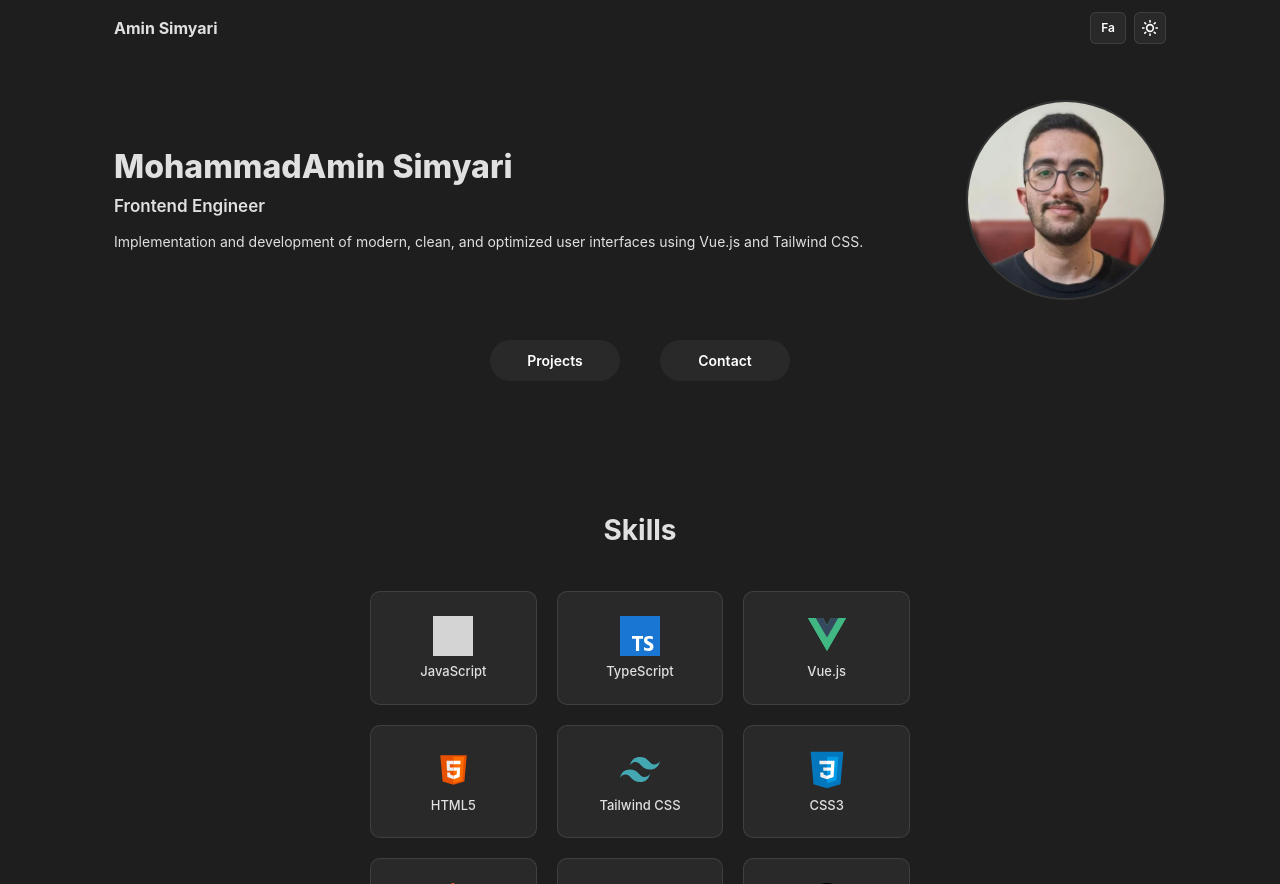
App › Language switching › can switch back to fa after going to en
The width and height of the screenshot is (1280, 884).
Step 1. Click the button with class "lang-toggle" → (1108, 28), box x1=1090 y1=12 x2=1126 y2=44
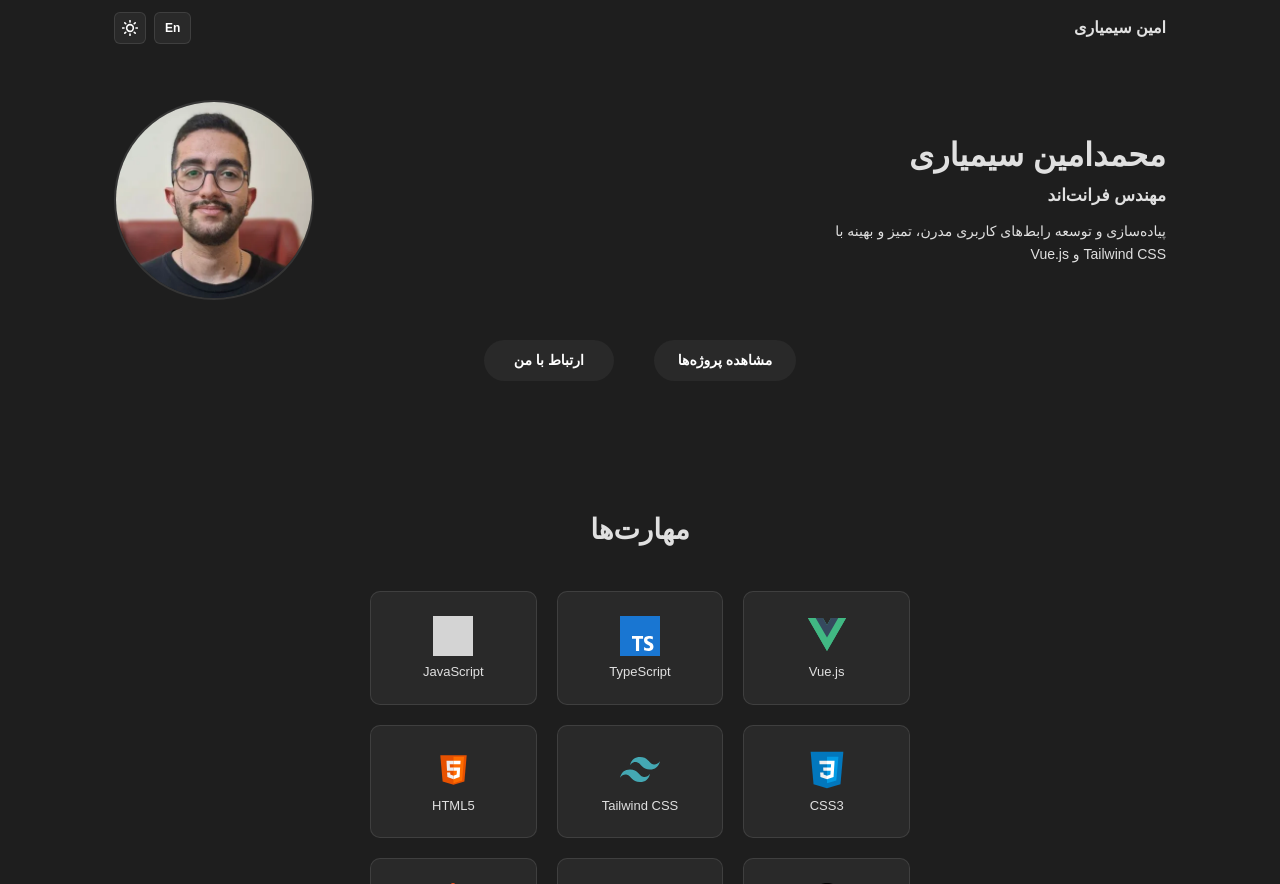
Step 2. Click the button with class "lang-toggle" → (173, 28), box x1=154 y1=12 x2=191 y2=44
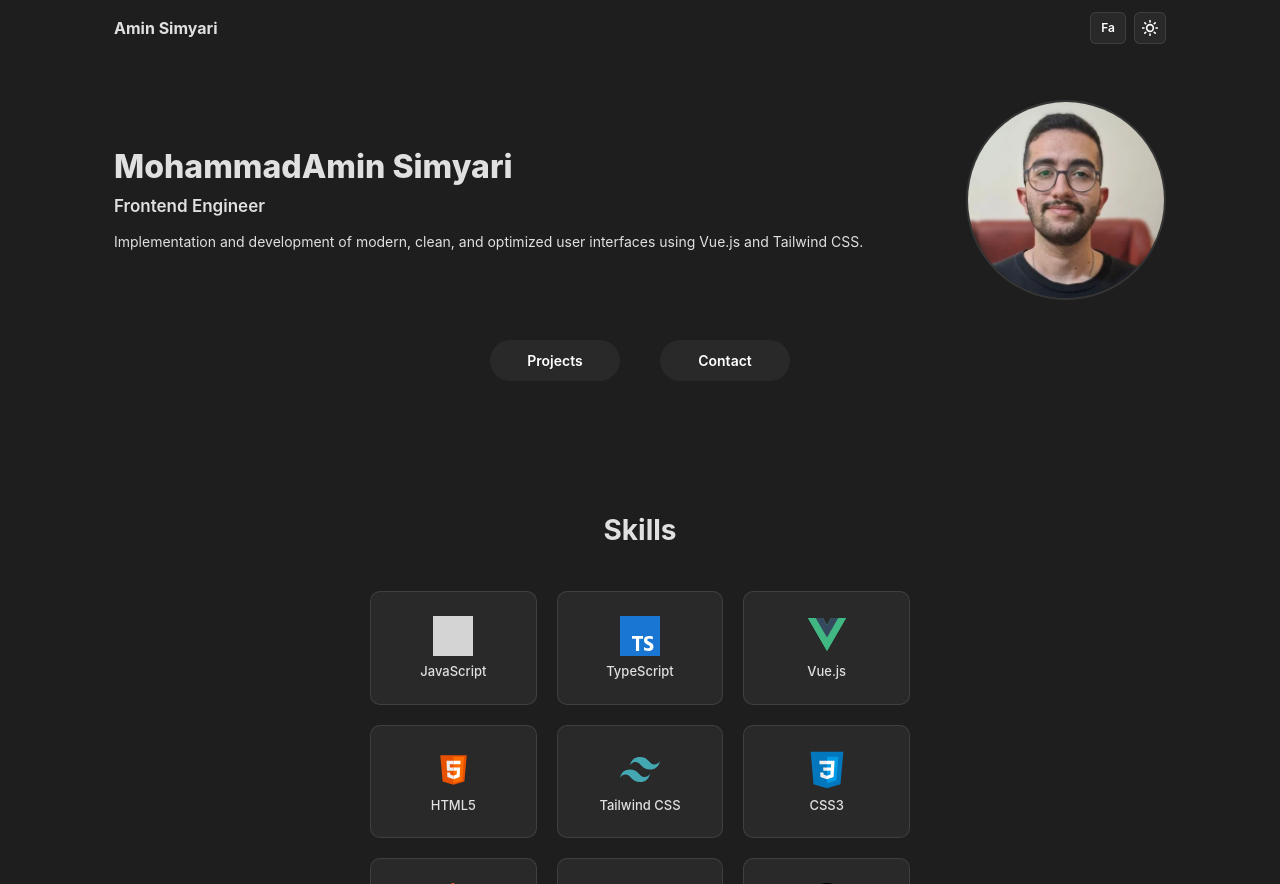
Check: the text "MohammadAmin" is shown, box x1=114 y1=147 x2=512 y2=186
Step 3. Click the button with class "lang-toggle" → (1108, 28), box x1=1090 y1=12 x2=1126 y2=44
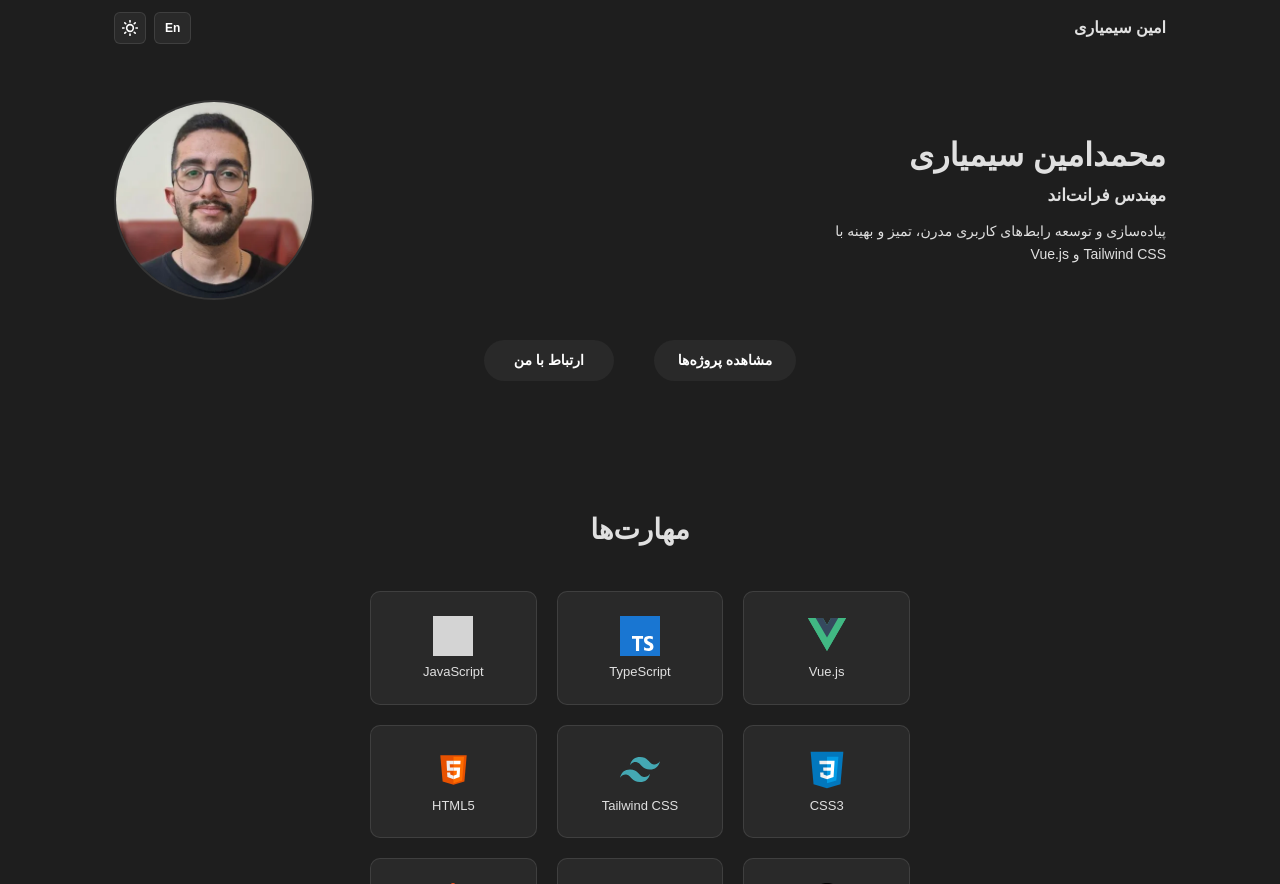
Check: the text "مهندس فرانت‌اند" is shown, box x1=1048 y1=186 x2=1166 y2=205
